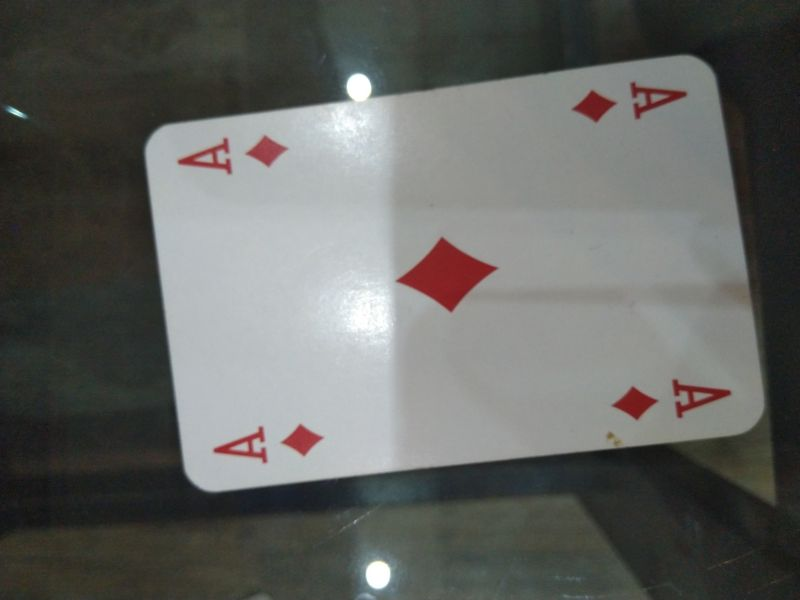Ad: (609, 372, 740, 428), (567, 76, 695, 127), (207, 419, 330, 467), (172, 133, 293, 173)
